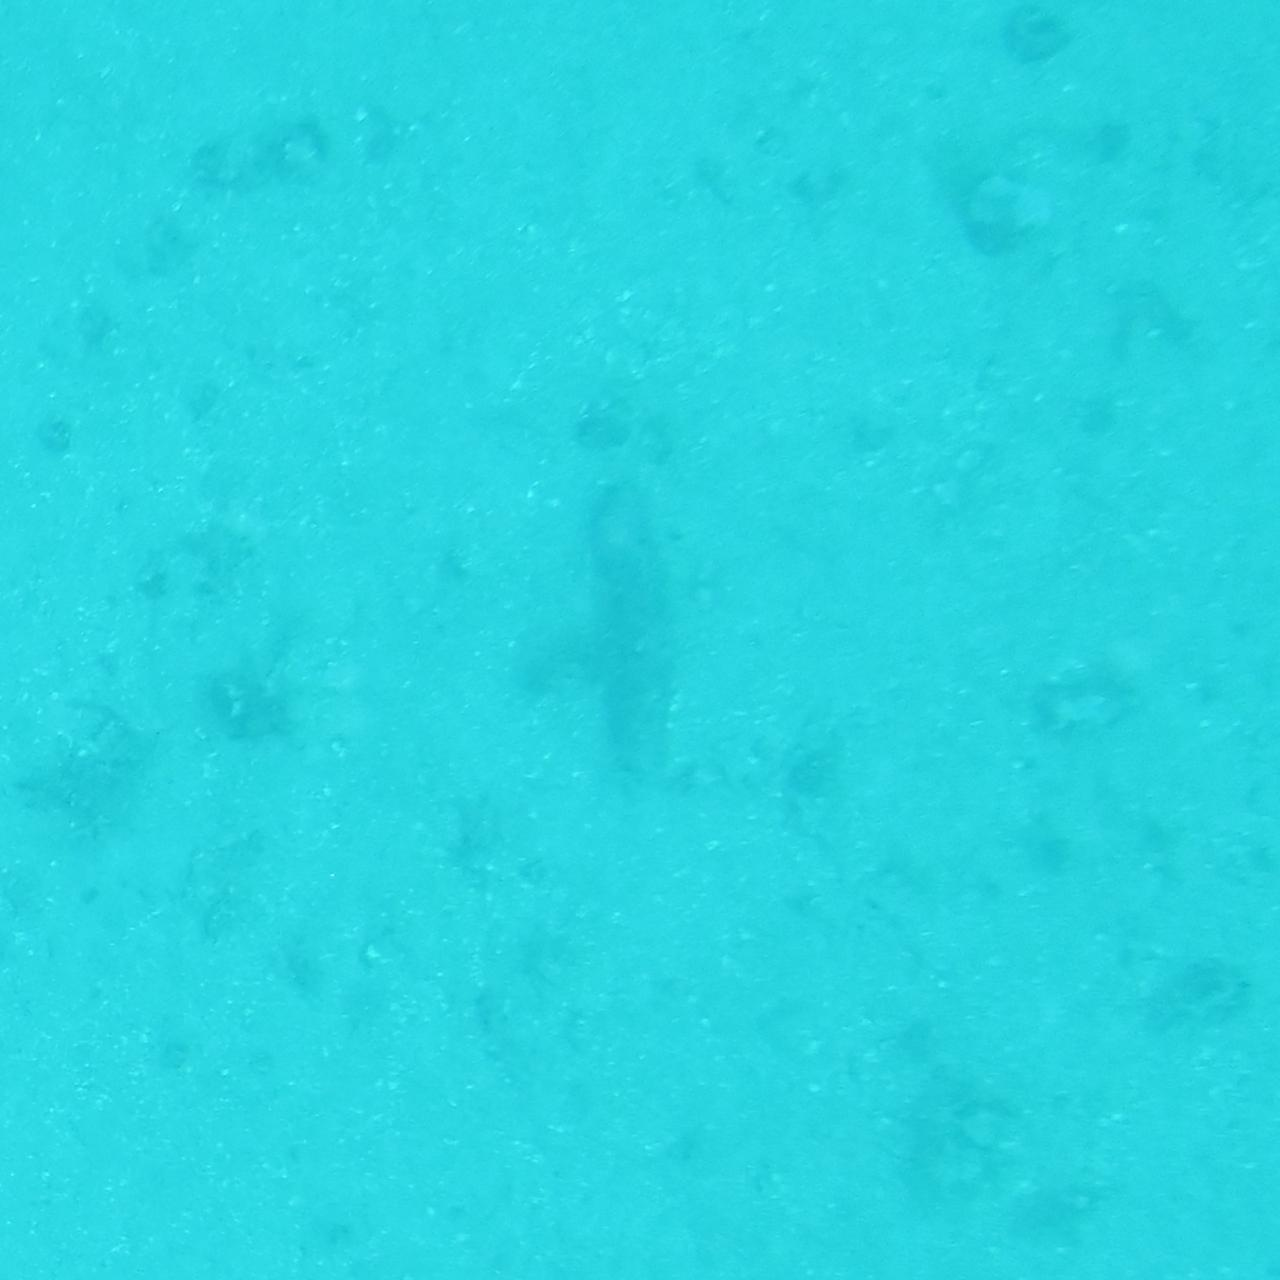Holothuria tubulosa: (584, 466, 696, 814)
